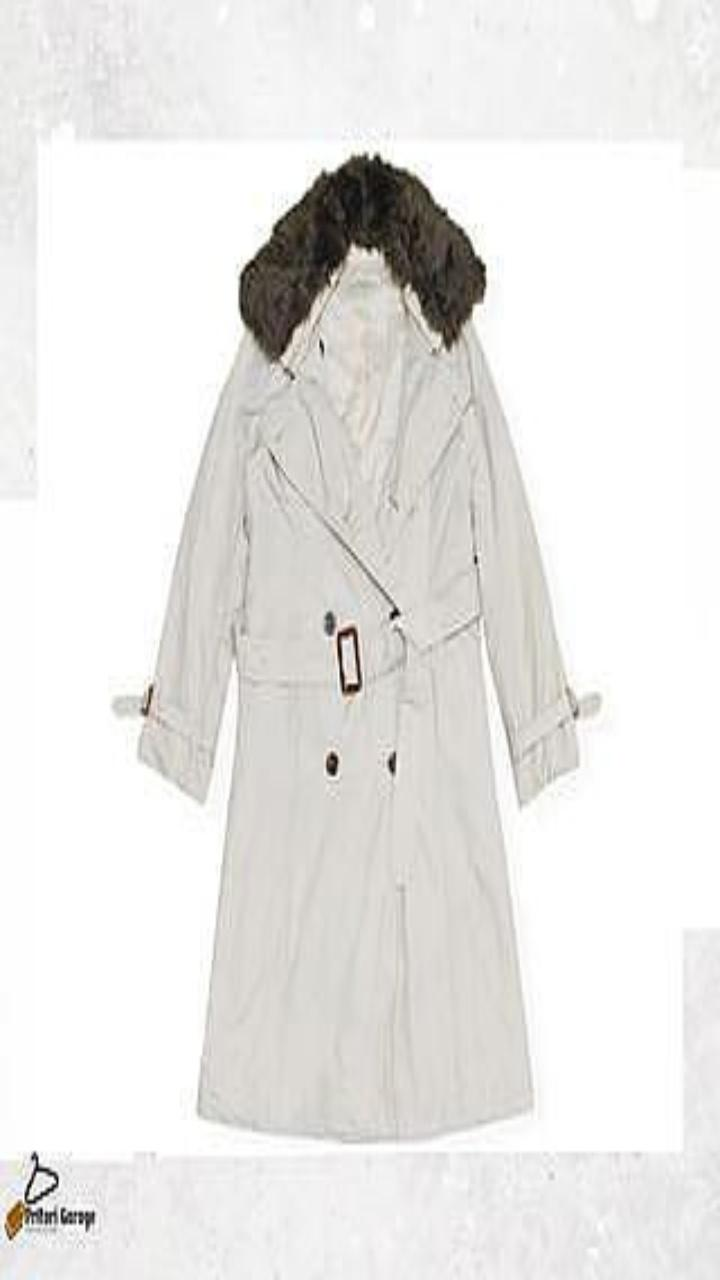Coat: (139, 157, 593, 1138)
